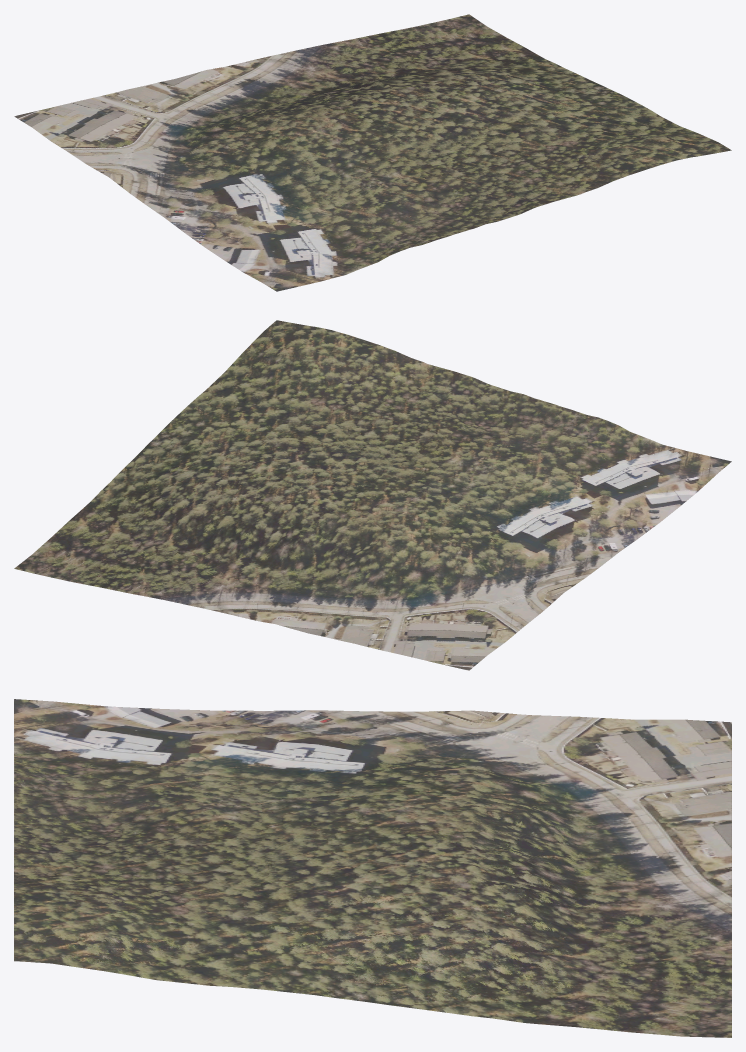
Rendered from CM_Terrain_24491073_6816927.fbx.
3 renders of one model, top to bottom at view 1: azimuth 30°, elevation 25°; view 2: azimuth 150°, elevation 25°; view 3: azimuth 270°, elevation 25°, orthographic. The views are drawn at different scales.
Parts seen in each view (by area): view 1: CM_Terrain_24491073_6816927_LOD0; view 2: CM_Terrain_24491073_6816927_LOD0; view 3: CM_Terrain_24491073_6816927_LOD0.
Part boxes in pixels (x1,y1,x2,y2): CM_Terrain_24491073_6816927_LOD0: (14, 14, 731, 291); CM_Terrain_24491073_6816927_LOD0: (14, 320, 731, 670); CM_Terrain_24491073_6816927_LOD0: (14, 699, 731, 1037).
Size of what is drawn, in the model's own units: 205 by 25.65 by 205.
